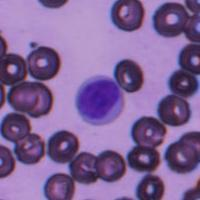L: (75, 74, 124, 125)
